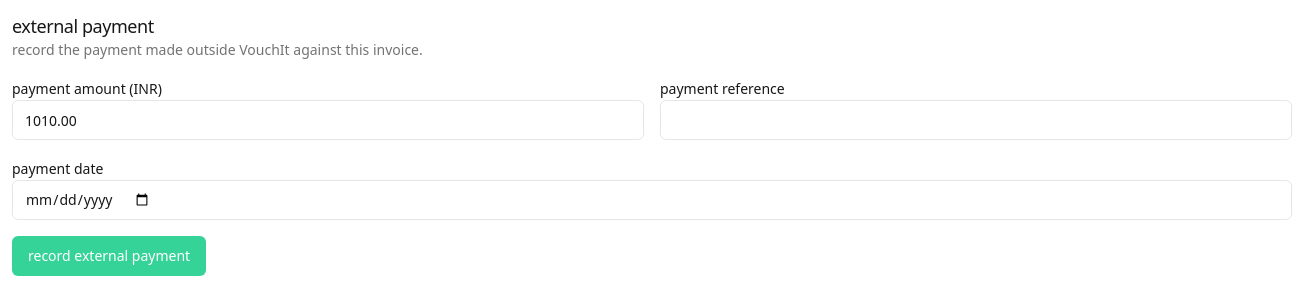
Test case: SettlementForm › records the exact external amount without checkout language
The width and height of the screenshot is (1304, 293).
Expected: the field labelled "payment amount (INR)" holds "1010.00", [12,100,644,140]
Type "BANK-001" into the field labelled "payment reference".
click(976, 120); type("BANK-001")  # box [660,100,1292,140]
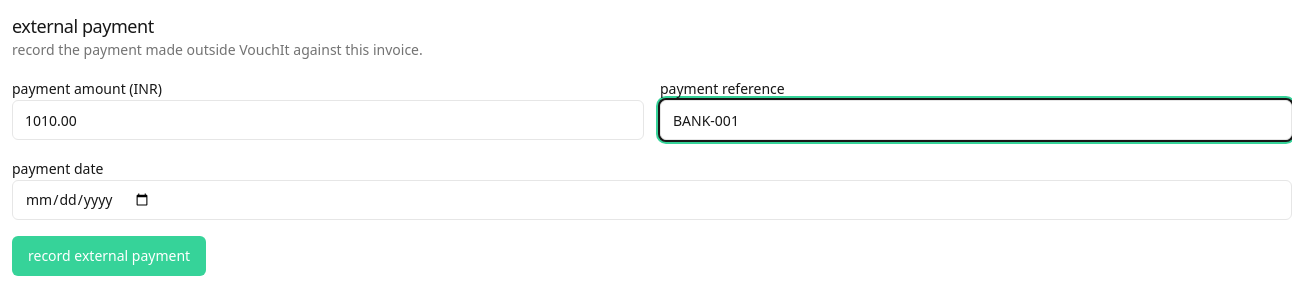
Type "2026-08-18" into the date field labelled "payment date".
click(652, 200); type("2026-08-18")  # box [12,180,1292,220]
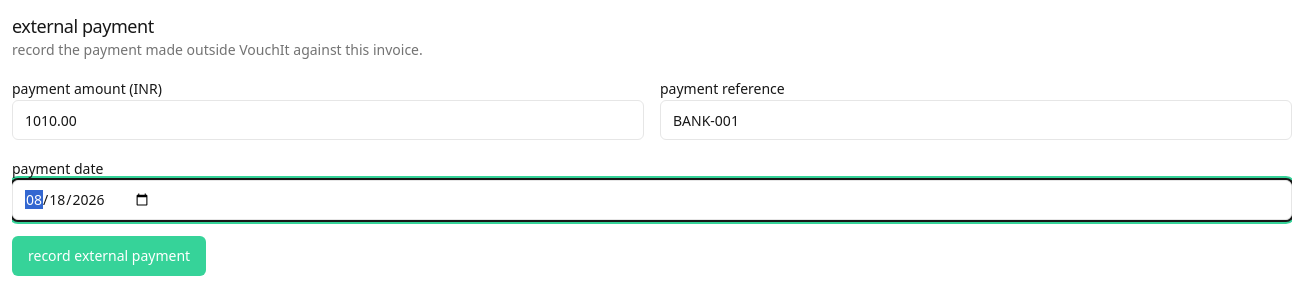
Click the button "record external payment".
click(109, 256)  # box [12,236,206,276]
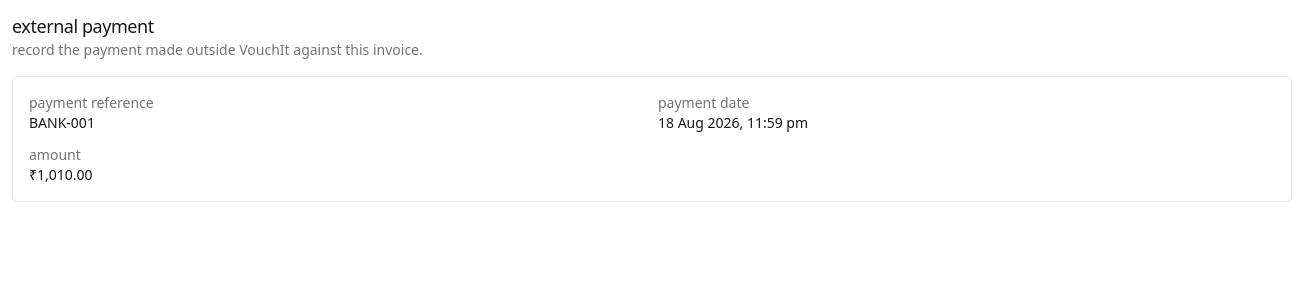
Expected: the text "BANK-001" is shown, [29,113,95,132]
